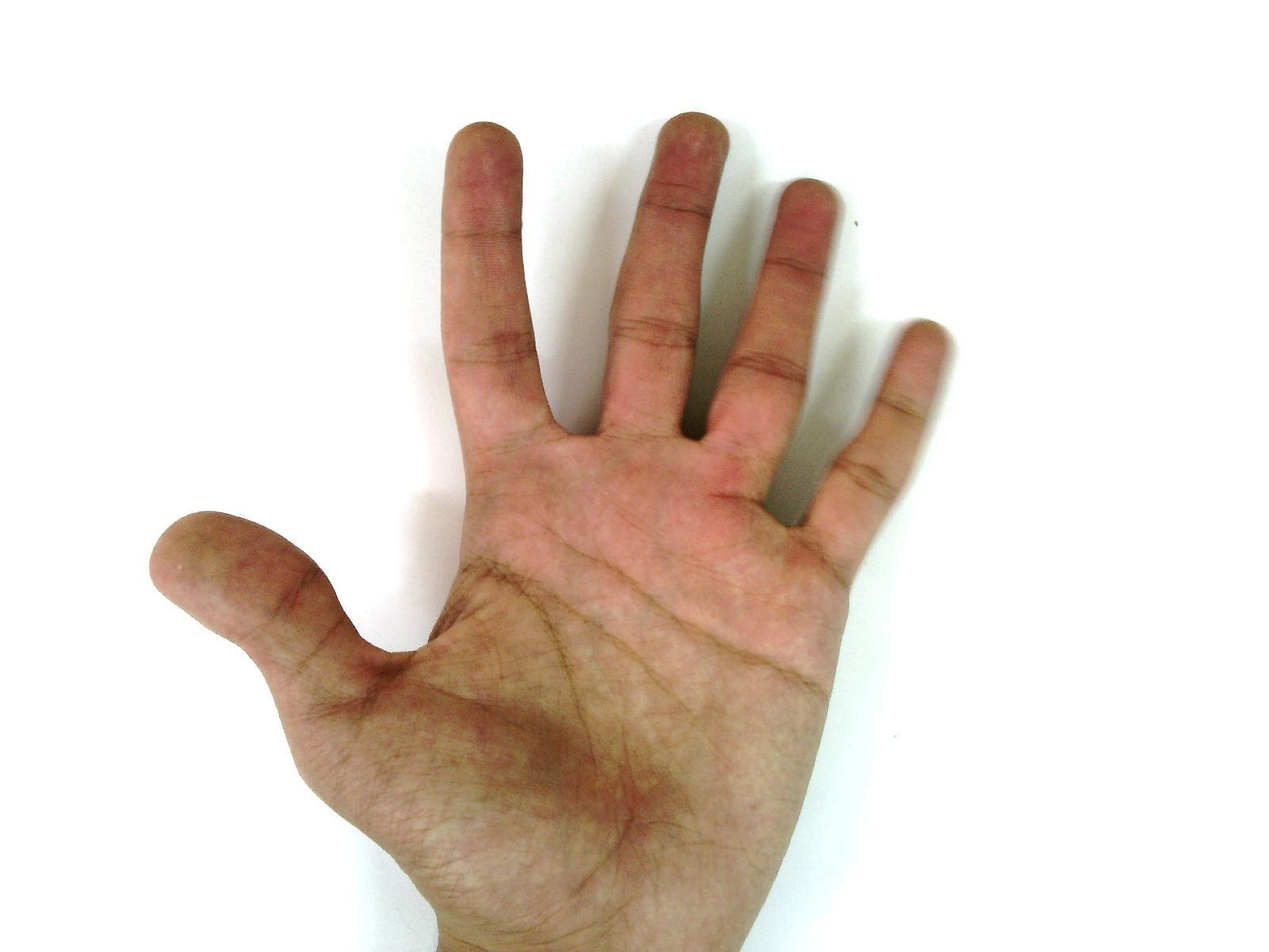open_palm: (148, 110, 959, 951)
